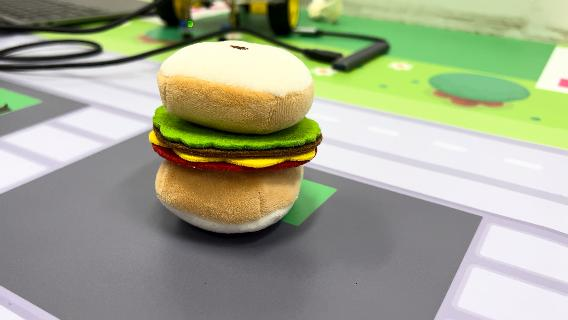sandwich: (148, 38, 324, 234)
